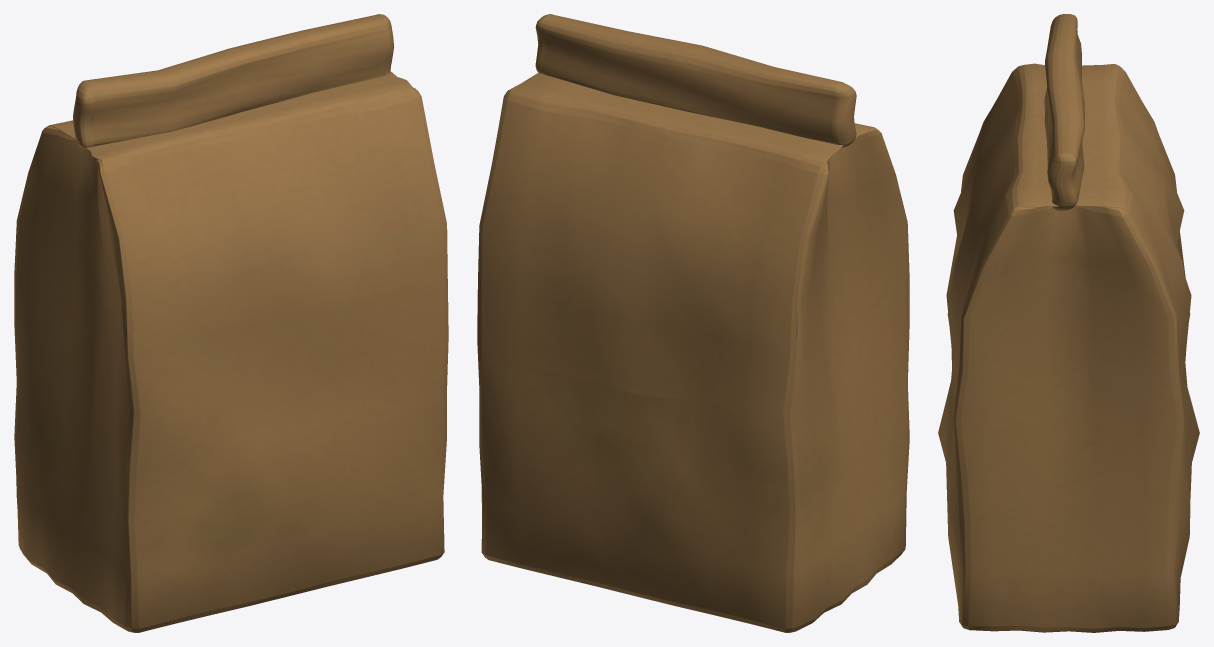
File: w51paperbag.glb
3 renders of one model, left to right at view 1: azimuth 30°, elevation 25°; view 2: azimuth 150°, elevation 25°; view 3: azimuth 270°, elevation 25°, orthographic. The views are drawn at different scales.
Parts seen in each view (by area): view 1: paperbag; view 2: paperbag; view 3: paperbag.
Boxes of the visible parts, x1,y1,x2,y2 form: paperbag: (14,14,448,632); paperbag: (477,14,909,632); paperbag: (938,14,1199,632).
Size of the model in its own units: 0.16 by 0.2379 by 0.1176.
Materials: 1 (1 with a texture image).
